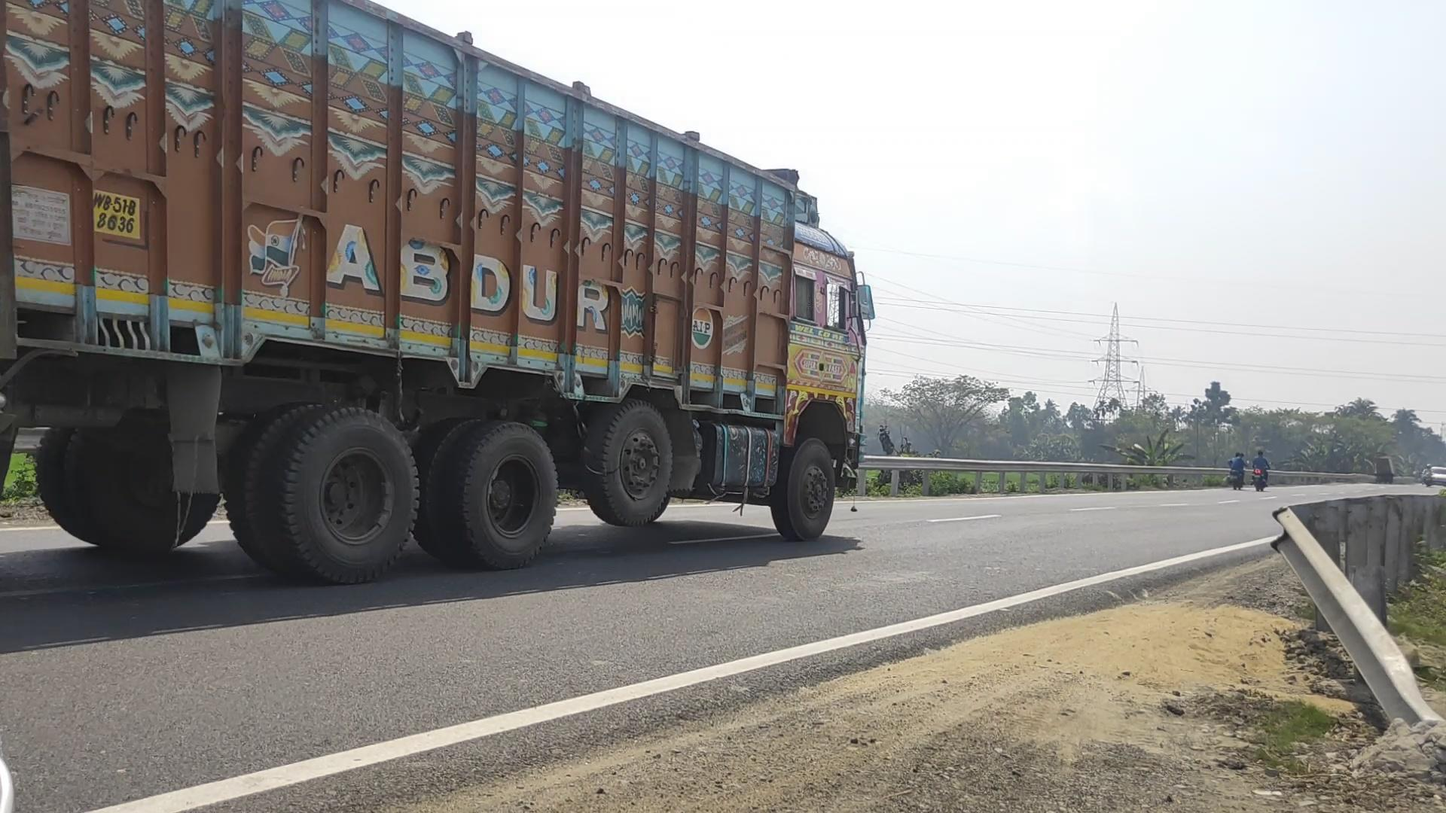bike: (1224, 452, 1250, 491), (1251, 450, 1273, 492), (1422, 463, 1434, 488)
car: (1429, 466, 1446, 487)
truck: (1, 1, 872, 585)
